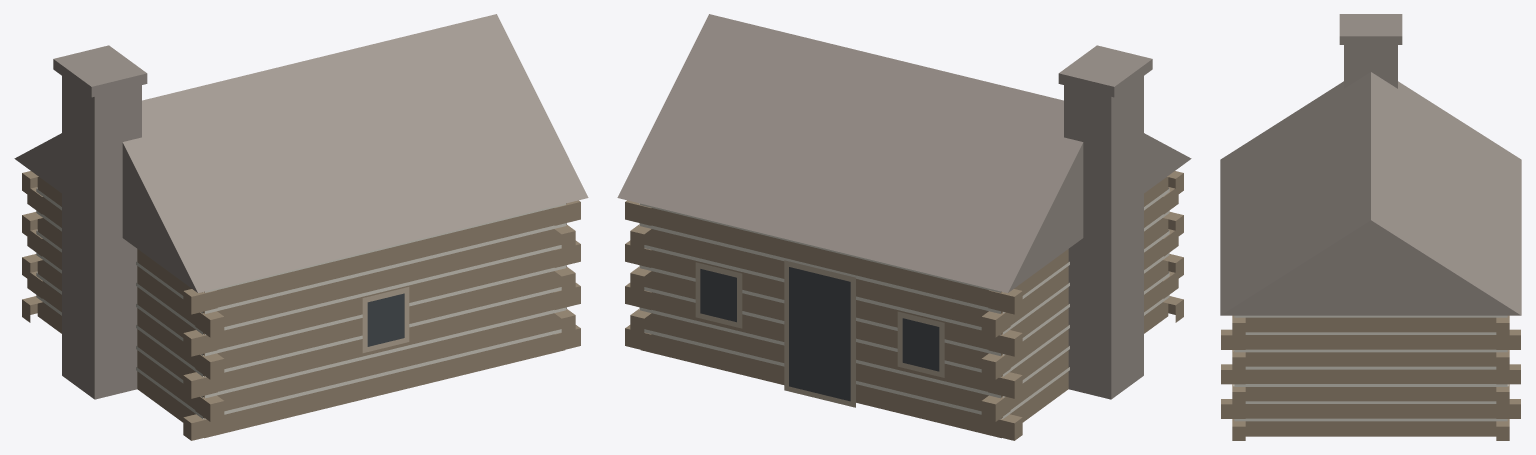
Rendered from philo_carpenter_log_shop__log_1832.glb.
3 renders of one model, left to right at view 1: azimuth 30°, elevation 25°; view 2: azimuth 150°, elevation 25°; view 3: azimuth 270°, elevation 25°, orthographic. The views are drawn at different scales.
Parts seen in each view (by area): view 1: philo_carpenter_log_shop__log_1832; view 2: philo_carpenter_log_shop__log_1832; view 3: philo_carpenter_log_shop__log_1832.
Part boxes in pixels (x1,y1,x2,y2): philo_carpenter_log_shop__log_1832: (14,14,588,440); philo_carpenter_log_shop__log_1832: (617,14,1191,440); philo_carpenter_log_shop__log_1832: (1220,14,1521,440).
Bounding box in the file's own units: 7.17 × 5.17 × 5.38.
